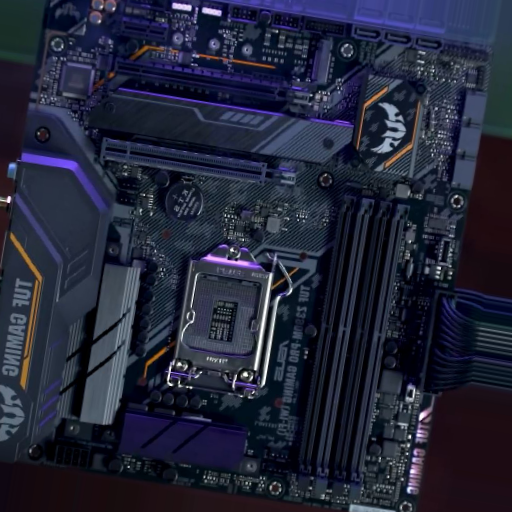CPU: (165, 243, 273, 397)
GPU: (114, 58, 325, 113), (98, 137, 296, 188)
MOTHERBOARD: (31, 1, 488, 511)
RAM: (295, 195, 410, 481)
SSD: (310, 36, 337, 90)
